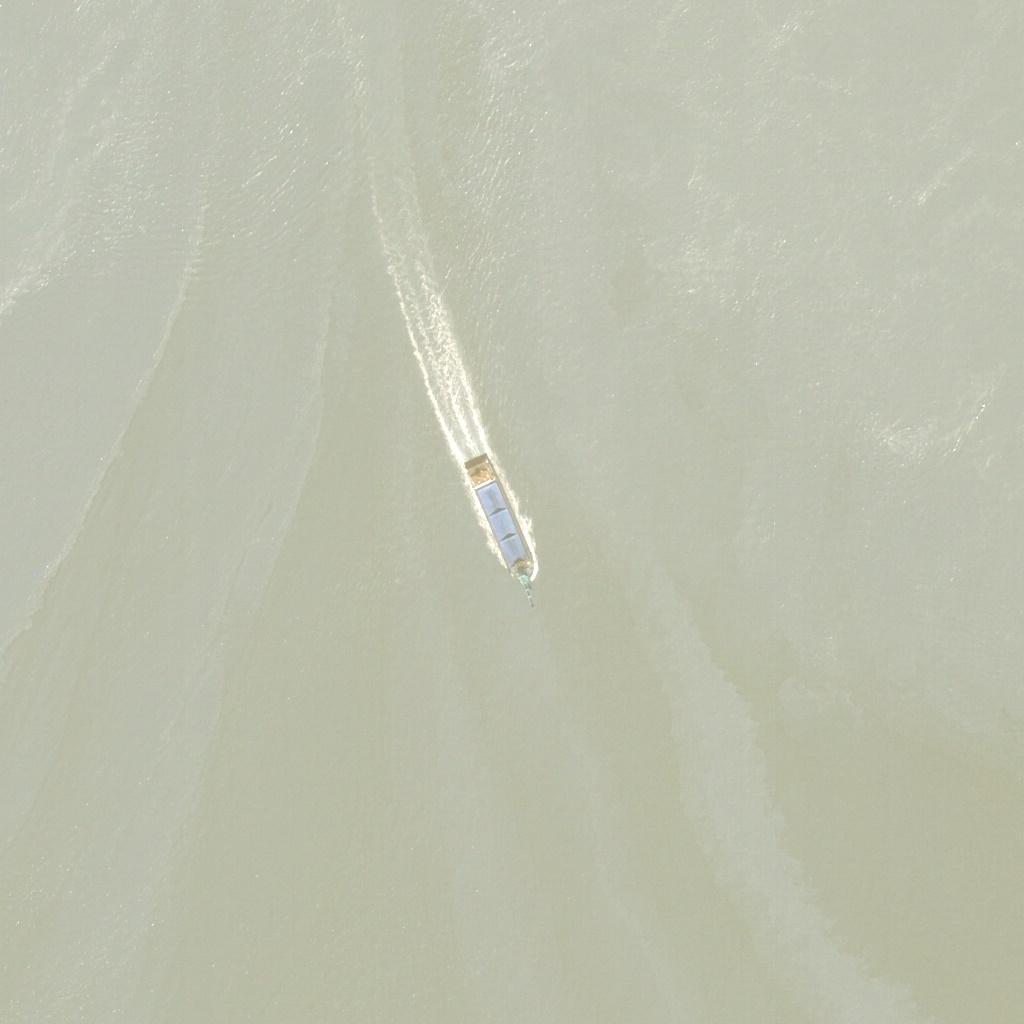ship: (466, 454, 540, 590)
